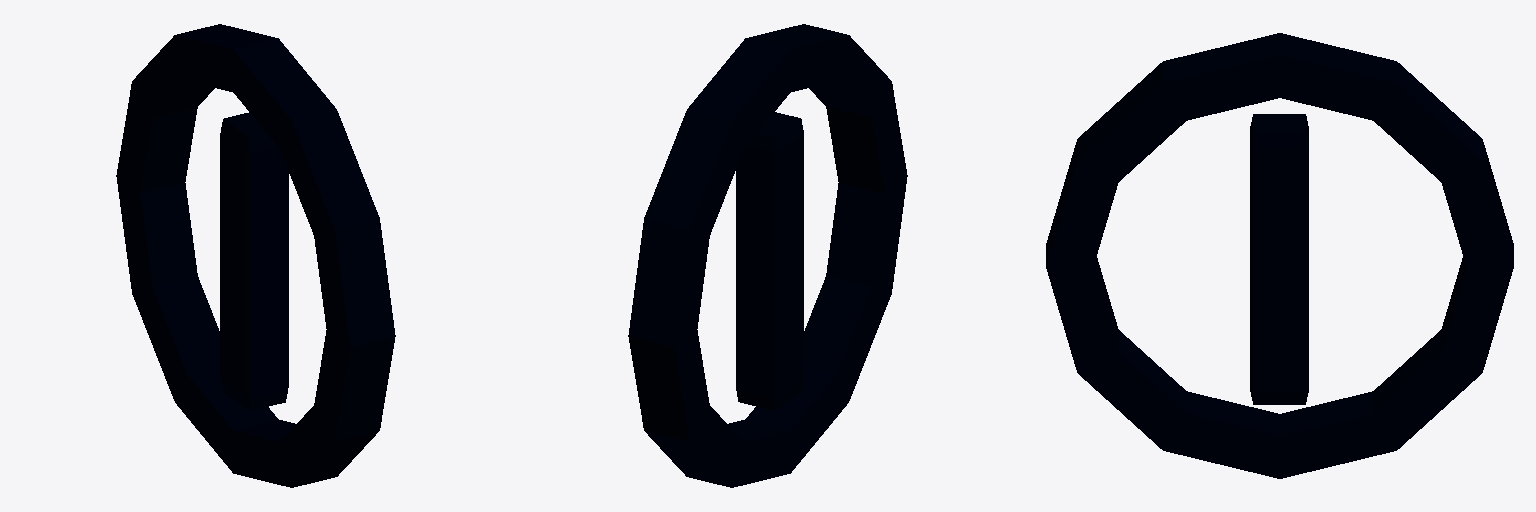
The model's file is artifact_minus.obj.
3 views of the same model, side by side, from view 1: azimuth 30°, elevation 25°; view 2: azimuth 150°, elevation 25°; view 3: azimuth 270°, elevation 25° (orthographic).
Parts seen in each view (by area): view 1: Plane; view 2: Plane; view 3: Plane.
Boxes of the visible parts, x1,y1,x2,y2 form: Plane: [116, 24, 395, 487]; Plane: [628, 24, 907, 487]; Plane: [1046, 33, 1513, 478].
Size of the model in its own units: 0.8627 by 7.73 by 7.73.